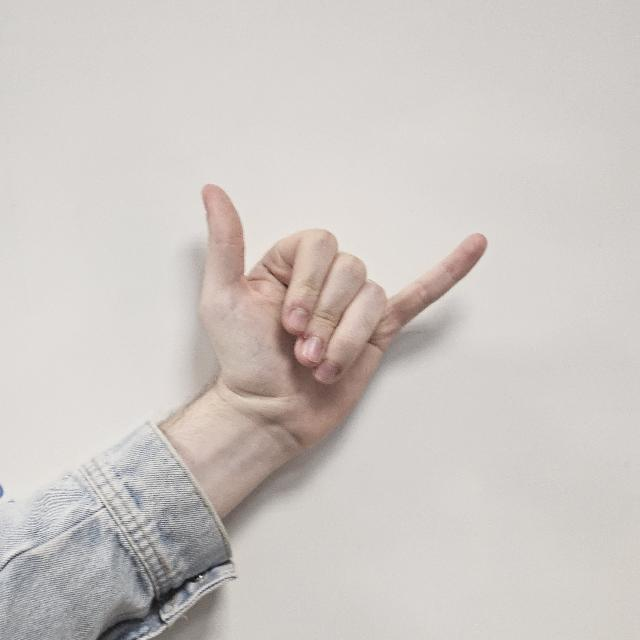Direita: (183, 178, 493, 456)
